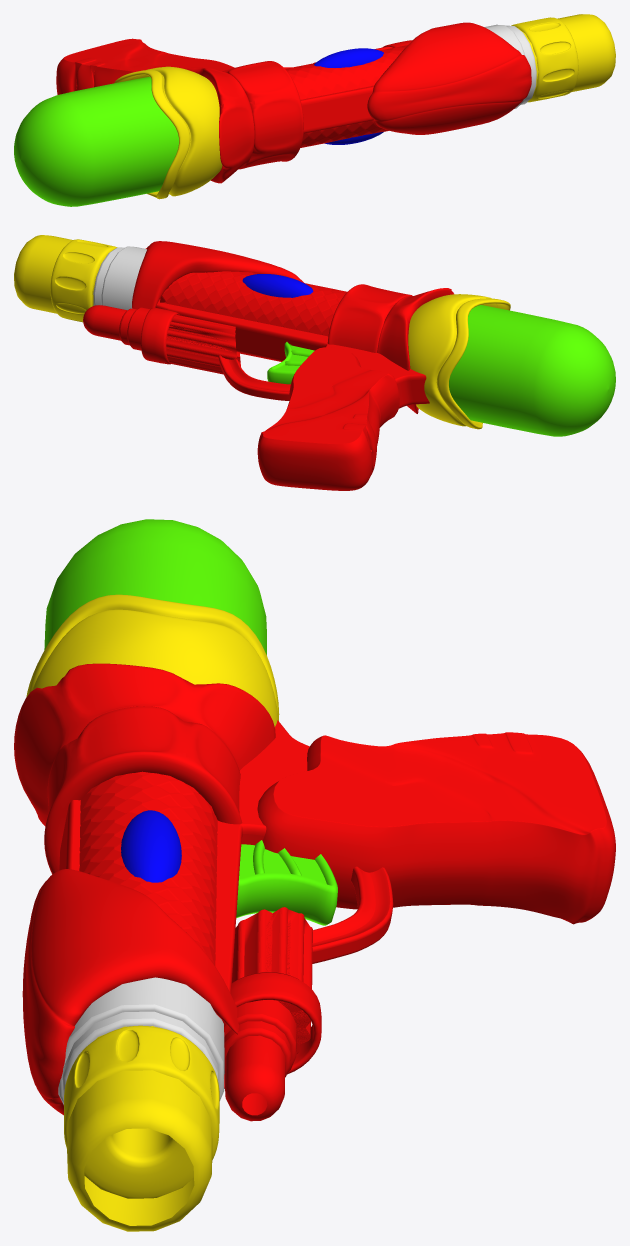
The model's file is Toy gun.fbx.
The picture shows the model from 3 angles, top to bottom: view 1: azimuth 30°, elevation 25°; view 2: azimuth 150°, elevation 25°; view 3: azimuth 270°, elevation 25°; orthographic projection. The views are drawn at different scales.
Parts seen in each view (by area): view 1: ChamferCyl001, Plane013, Tube002, Tube001, Plane012, Tube003, Tube004, Tube006, Group002, Line002, Sphere001, Line008; view 2: ChamferCyl001, Plane012, Tube003, Tube002, Line002, Plane013, Tube001, Tube006, Star001, Group002, Line008, Tube004 (+5 smaller); view 3: Plane012, Plane013, Tube002, Tube004, ChamferCyl001, Tube001, Group002, Tube003, Tube006, Line002, Line008, Line007 (+5 smaller).
Boxes of the visible parts, <box> form: ChamferCyl001: <box>14,77,178,206</box>; Plane013: <box>367,22,531,134</box>; Tube002: <box>114,66,222,199</box>; Tube001: <box>222,61,303,169</box>; Plane012: <box>56,38,234,94</box>; Tube003: <box>285,45,407,147</box>; Tube004: <box>184,67,254,183</box>; Tube006: <box>511,17,578,102</box>; Group002: <box>517,14,615,95</box>; Line002: <box>300,85,373,133</box>; Sphere001: <box>314,48,383,144</box>; Line008: <box>484,24,536,108</box>; ChamferCyl001: <box>449,305,615,436</box>; Plane012: <box>257,347,399,490</box>; Tube003: <box>160,271,347,361</box>; Tube002: <box>408,294,510,429</box>; Line002: <box>155,298,429,408</box>; Plane013: <box>132,241,303,309</box>; Tube001: <box>327,284,412,352</box>; Tube006: <box>50,239,116,322</box>; Star001: <box>166,314,240,374</box>; Group002: <box>14,235,113,313</box>; Line008: <box>93,246,146,310</box>; Tube004: <box>377,288,453,413</box>; Plane012: <box>257,732,615,924</box>; Plane013: <box>22,869,238,1115</box>; Tube002: <box>26,594,279,726</box>; Tube004: <box>14,663,275,826</box>; ChamferCyl001: <box>44,519,266,654</box>; Tube001: <box>44,706,242,874</box>; Group002: <box>67,1026,212,1231</box>; Tube003: <box>79,771,217,965</box>; Tube006: <box>64,1025,219,1198</box>; Line002: <box>59,720,309,1020</box>; Line008: <box>58,977,224,1104</box>; Line007: <box>222,1000,296,1121</box>.
Size of the model in its own units: 17.18 by 3.41 by 7.93.
